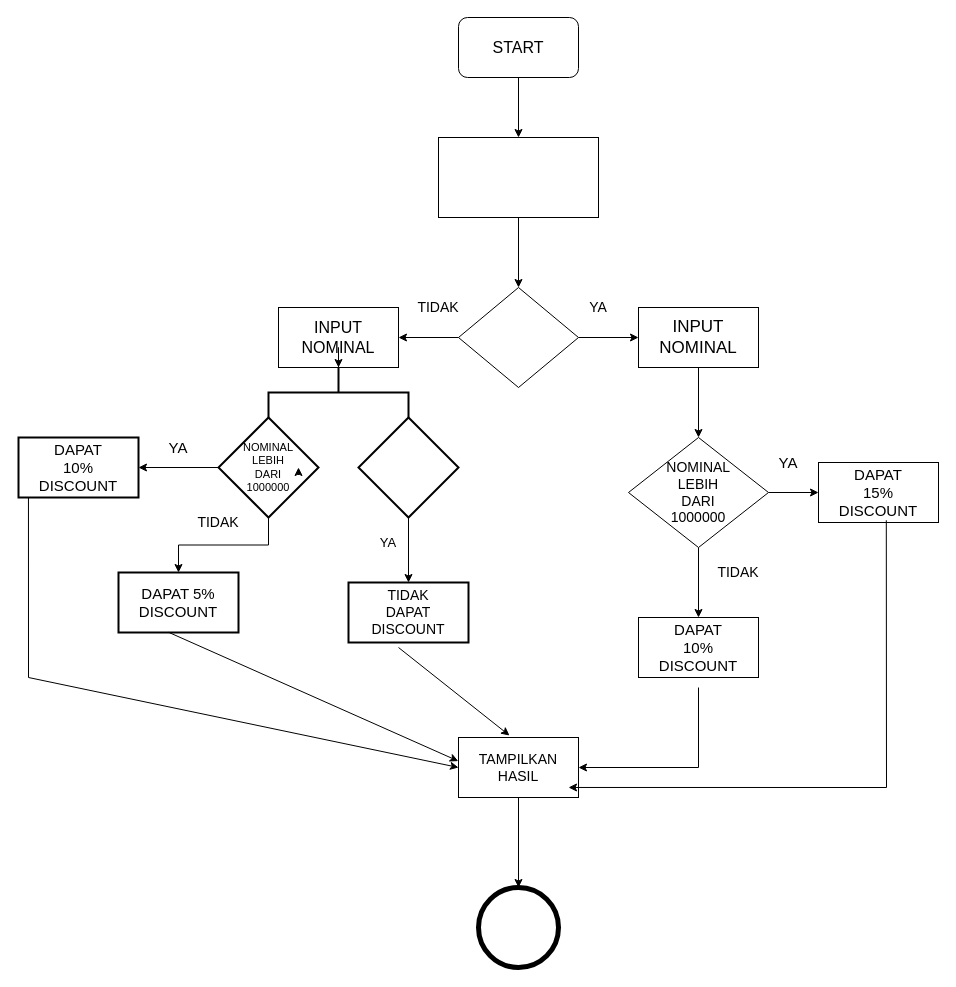
The diagram is 956 pixels wide and 987 high, and some of its shapes have lost their labels. The shapes that lost their labels are listed below. From the top down, each one's centre as x and y in pixels, then its label:
(x=518, y=177): INPUT BELANJAAN
(x=518, y=337): MEMBER
(x=408, y=467): NOMINAL KURANG DARI 500000
(x=518, y=927): STOP
